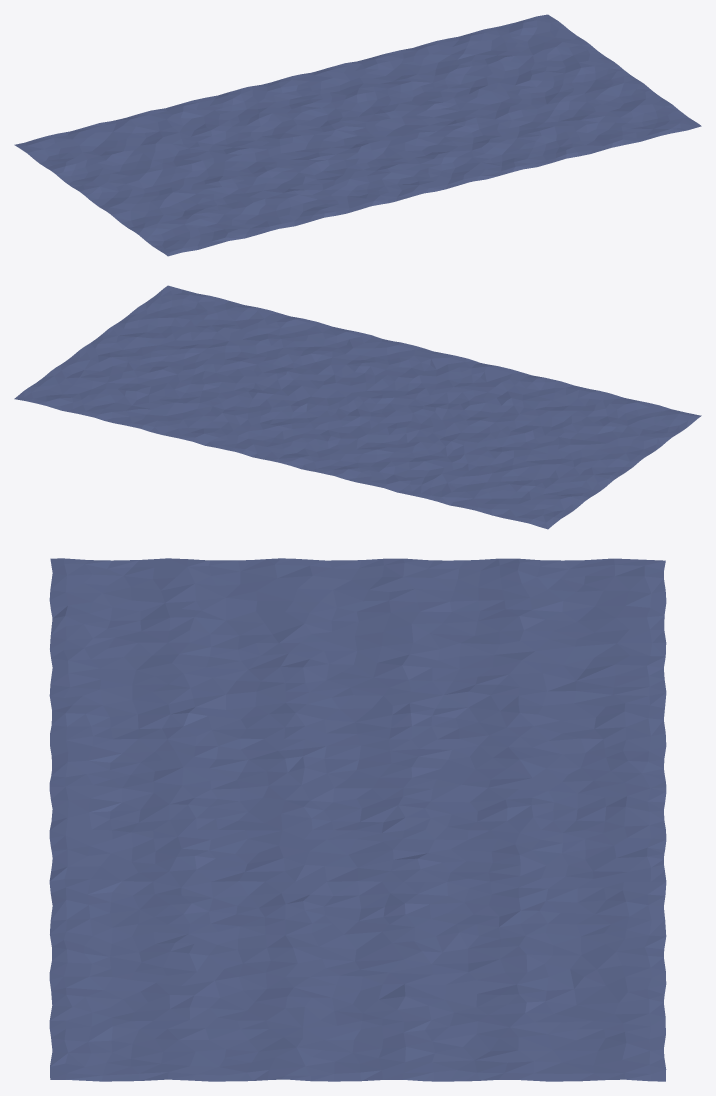
The model's file is Boss_water.fbx.
3 renders of one model, top to bottom at view 1: azimuth 30°, elevation 25°; view 2: azimuth 150°, elevation 25°; view 3: azimuth 270°, elevation 25°, orthographic. The views are drawn at different scales.
Visible parts, largest first — view 1: Water; view 2: Water; view 3: Water.
Part boxes in pixels (x1,y1,x2,y2): Water: (14, 14, 701, 256); Water: (14, 285, 701, 529); Water: (49, 558, 666, 1081).
Size of the model in its own units: 54919 by 271 by 27462.
